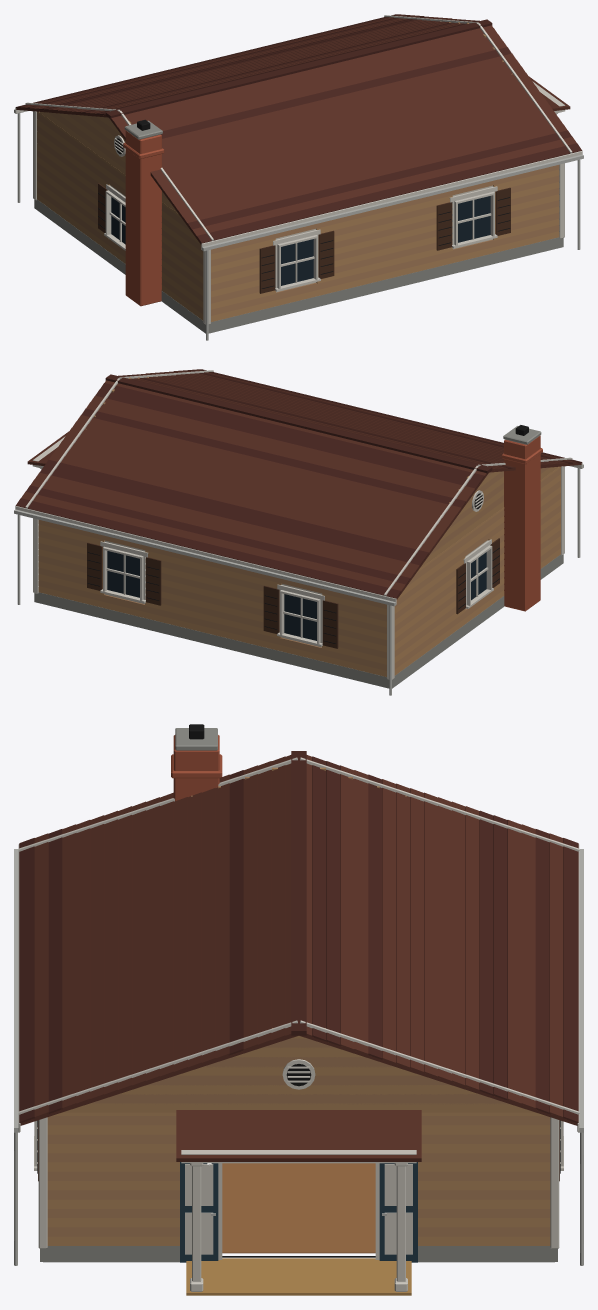
The model's file is house-terracotta.glb.
3 views of the same model, one above another, from view 1: azimuth 30°, elevation 25°; view 2: azimuth 150°, elevation 25°; view 3: azimuth 270°, elevation 25° (orthographic). The views are drawn at different scales.
Parts seen in each view (by area): view 1: house-terracotta; view 2: house-terracotta; view 3: house-terracotta.
Part boxes in pixels (x1,y1,x2,y2): house-terracotta: (14, 14, 583, 340); house-terracotta: (14, 369, 583, 695); house-terracotta: (14, 724, 583, 1295).
Size of the model in its own units: 14.67 by 5.72 by 11.14.
